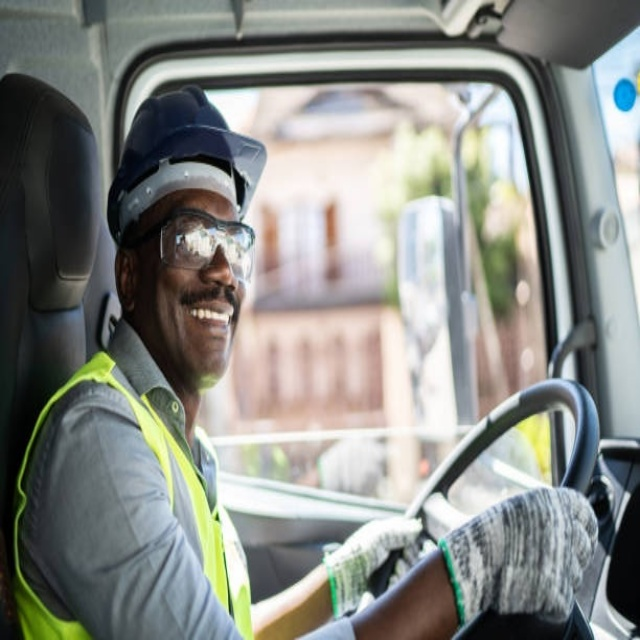Gafas: (132, 213, 258, 281)
Guantes: (438, 485, 598, 626), (322, 516, 424, 619)
Sin_mascara: (181, 287, 236, 356)
